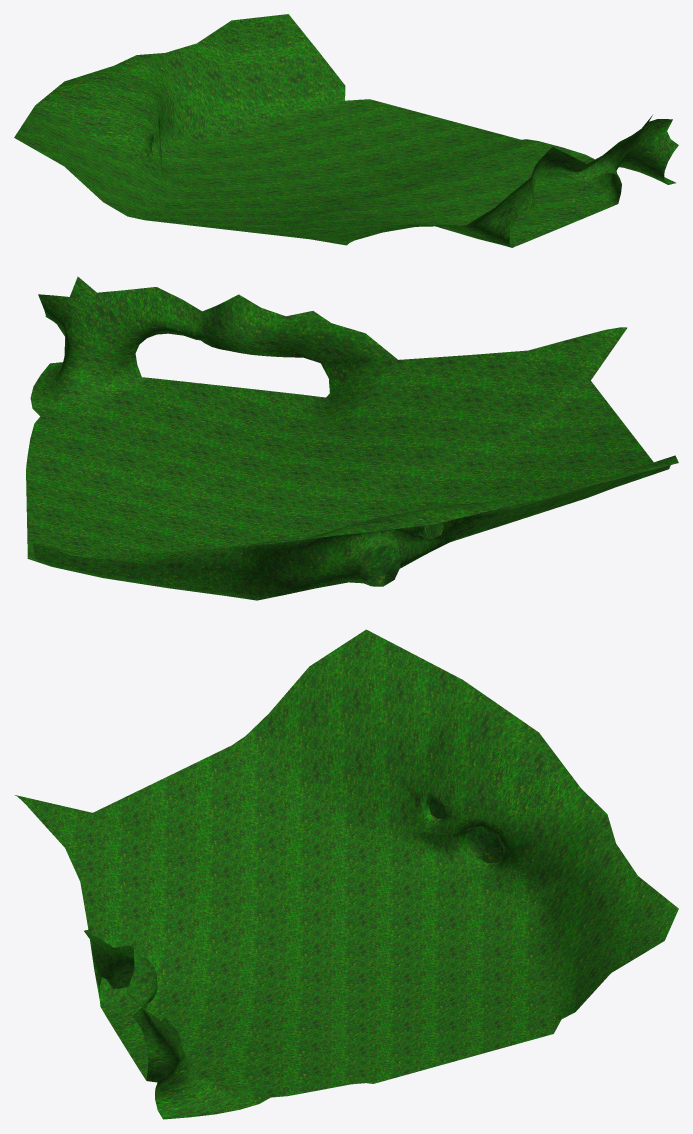
Rendered from HTOWN01_PS22.fbx.
3 renders of one model, top to bottom at view 1: azimuth 30°, elevation 25°; view 2: azimuth 150°, elevation 25°; view 3: azimuth 270°, elevation 25°, orthographic. The views are drawn at different scales.
Visible parts, largest first — view 1: HTOWN01_PS22; view 2: HTOWN01_PS22; view 3: HTOWN01_PS22.
Boxes of the visible parts, <box> form: HTOWN01_PS22: <box>14,14,678,247</box>; HTOWN01_PS22: <box>26,276,678,600</box>; HTOWN01_PS22: <box>15,629,678,1119</box>.
Bounding box in the file's own units: 371811 × 78534 × 305784.
2 materials, 2 textured.
